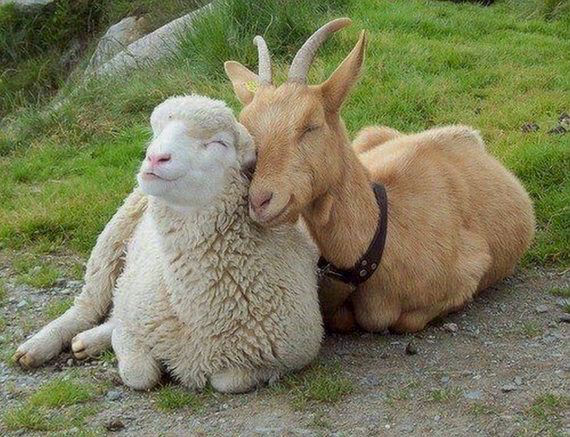koyun: (12, 95, 246, 392)
